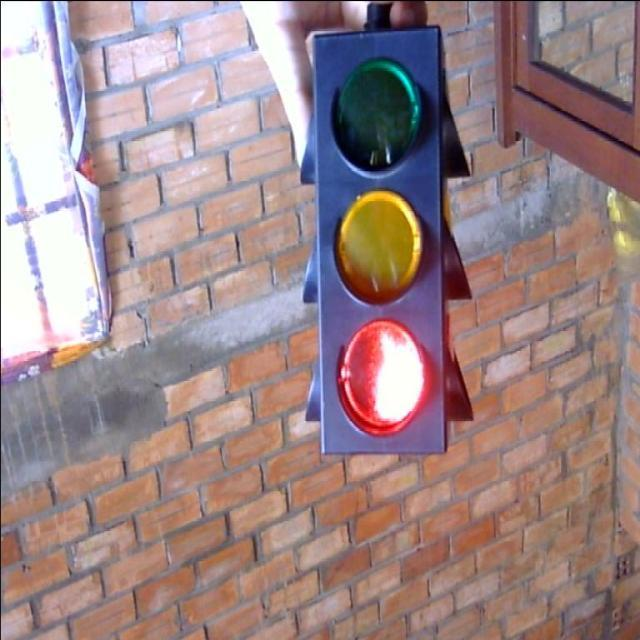red light: (324, 310, 442, 440)
